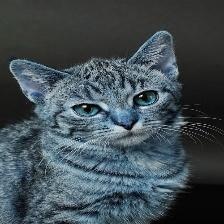kedo: (2, 31, 187, 224)
